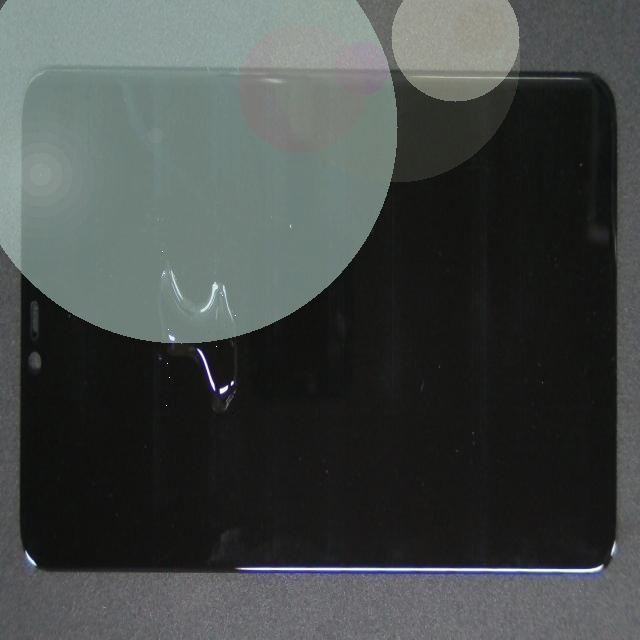oil: (118, 136, 314, 440)
